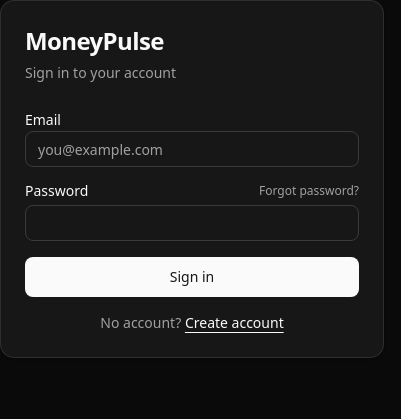
it: LoginForm › shows validation error for invalid email format
The width and height of the screenshot is (401, 419).
Type "notanemail" into the field labelled "Email".
click(192, 149); type("notanemail")  # box 25,131 -> 359,167
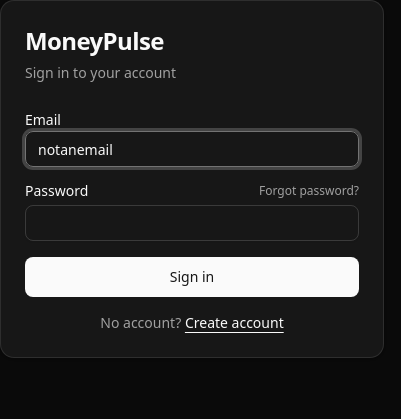
Click the button "Sign in".
click(192, 277)  # box 25,257 -> 359,297
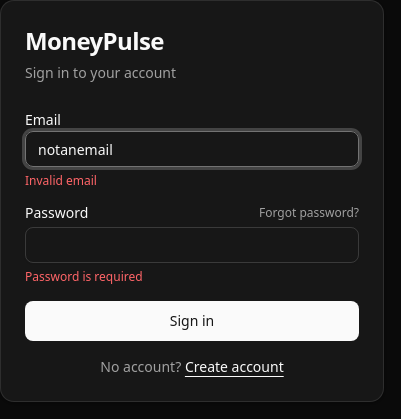
Check: the text "Invalid email" is shown, box 25,172 -> 97,189
